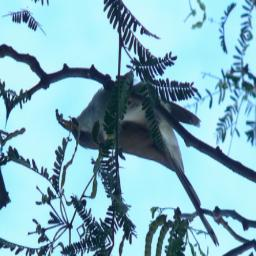Cuckoo: (45, 42, 248, 253)
